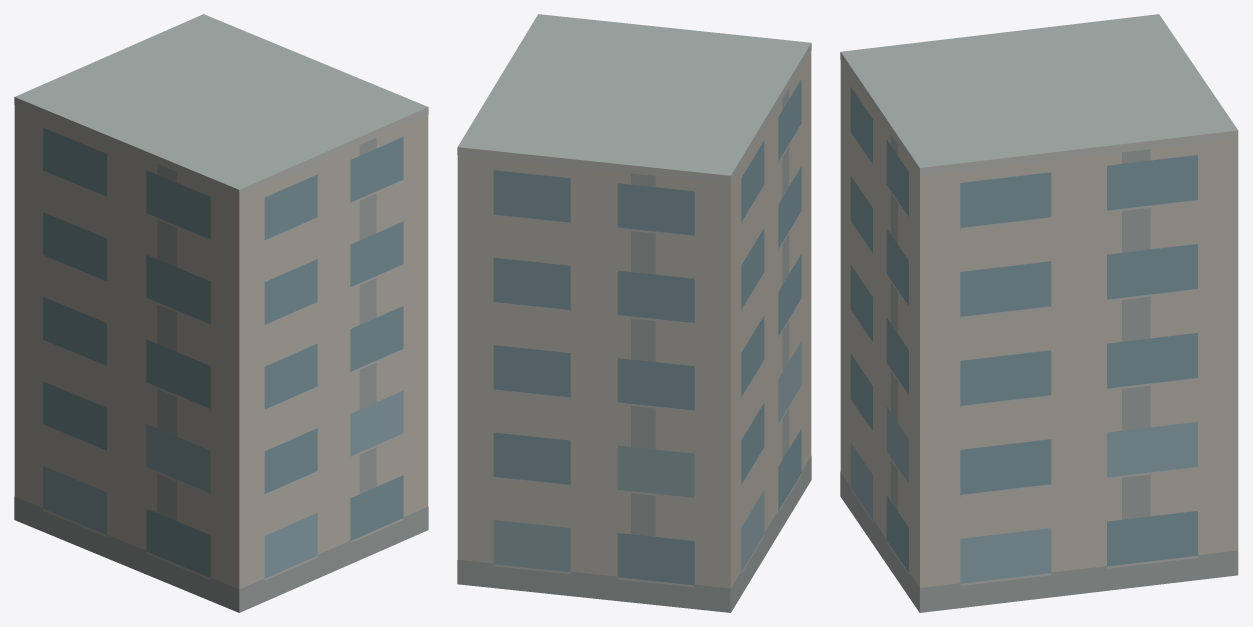
The model's file is survey-upis-32985491.glb.
3 views of the same model, side by side, from view 1: azimuth 30°, elevation 25°; view 2: azimuth 150°, elevation 25°; view 3: azimuth 270°, elevation 25° (orthographic). The views are drawn at different scales.
Visible parts, largest first — view 1: survey-upis-32985491.tmp; view 2: survey-upis-32985491.tmp; view 3: survey-upis-32985491.tmp.
Boxes of the visible parts, x1=… form: survey-upis-32985491.tmp: x1=14, y1=14, x2=428, y2=612; survey-upis-32985491.tmp: x1=457, y1=14, x2=811, y2=612; survey-upis-32985491.tmp: x1=840, y1=14, x2=1238, y2=612.
Size of the model in its own units: 9.74 by 13.1 by 10.63.
